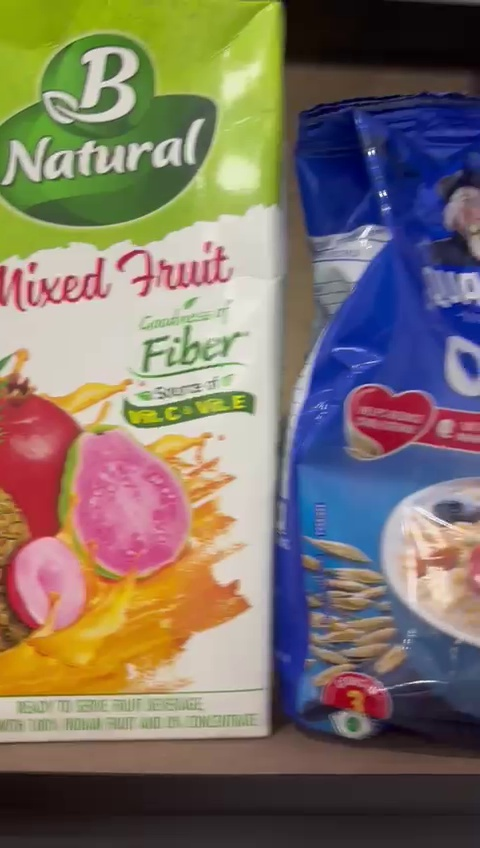Mixed Fruit: (2, 0, 283, 750)
